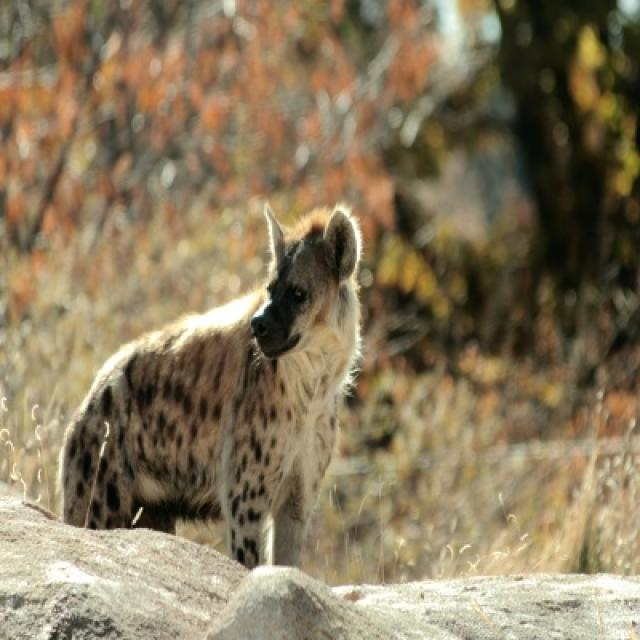hyena: (56, 206, 363, 571)
